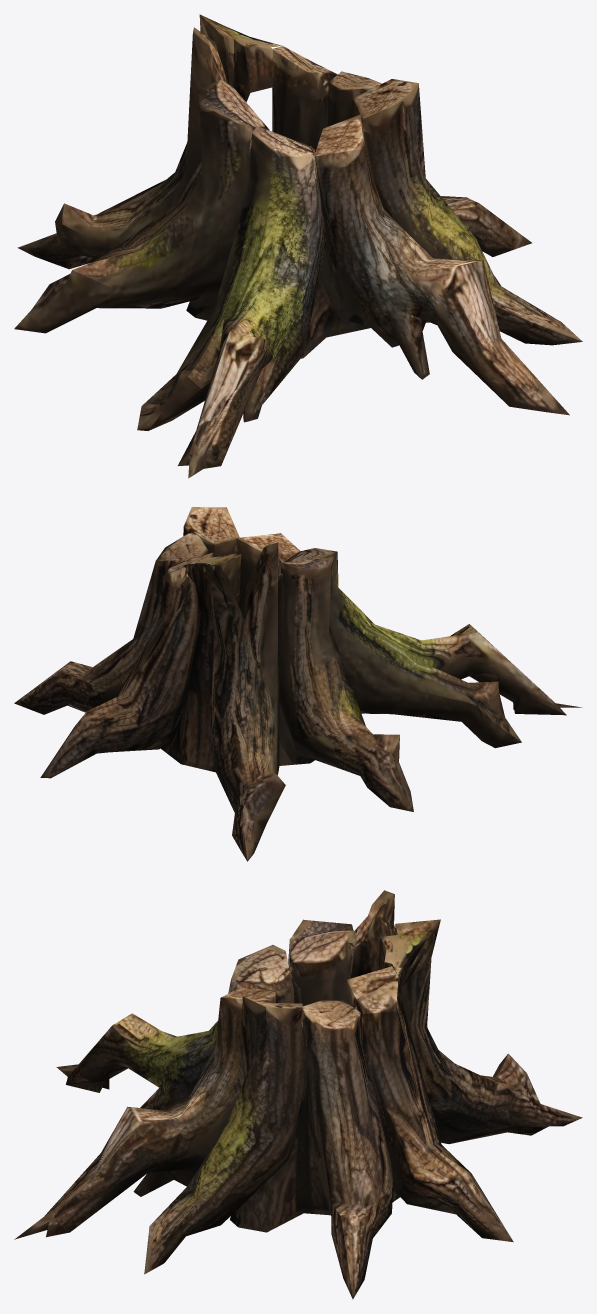
The model's file is act1_kit_v1_root_stump.glb.
The picture shows the model from 3 angles, top to bottom: view 1: azimuth 30°, elevation 25°; view 2: azimuth 150°, elevation 25°; view 3: azimuth 270°, elevation 25°; orthographic projection. The views are drawn at different scales.
Parts seen in each view (by area): view 1: A03_6_root_stump; view 2: A03_6_root_stump; view 3: A03_6_root_stump.
Part boxes in pixels (<box>): A03_6_root_stump: <box>14,14,582,478</box>; A03_6_root_stump: <box>14,507,582,861</box>; A03_6_root_stump: <box>14,890,582,1299</box>.
Size of the model in its own units: 0.9587 by 0.5169 by 1.
Materials: 1 (1 with a texture image).
